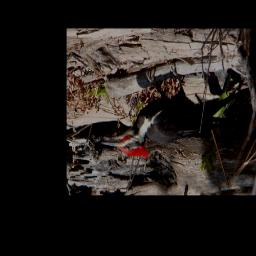Woodpecker: (98, 63, 249, 159)
